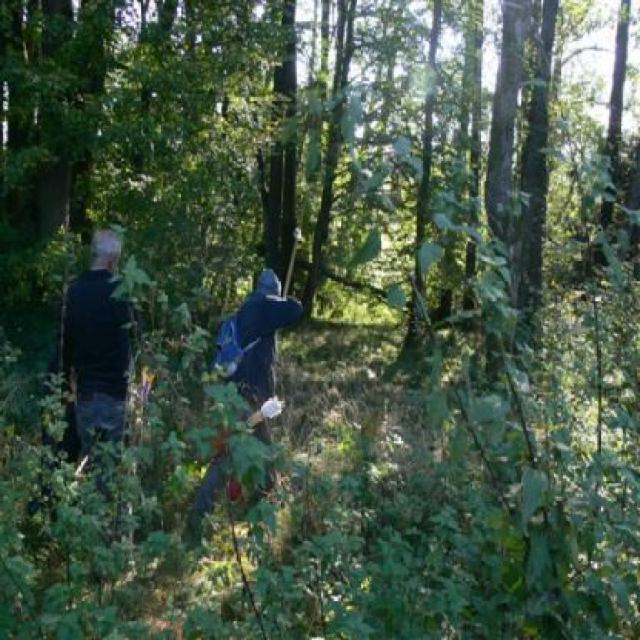Person: (180, 262, 305, 548), (55, 207, 138, 488)
